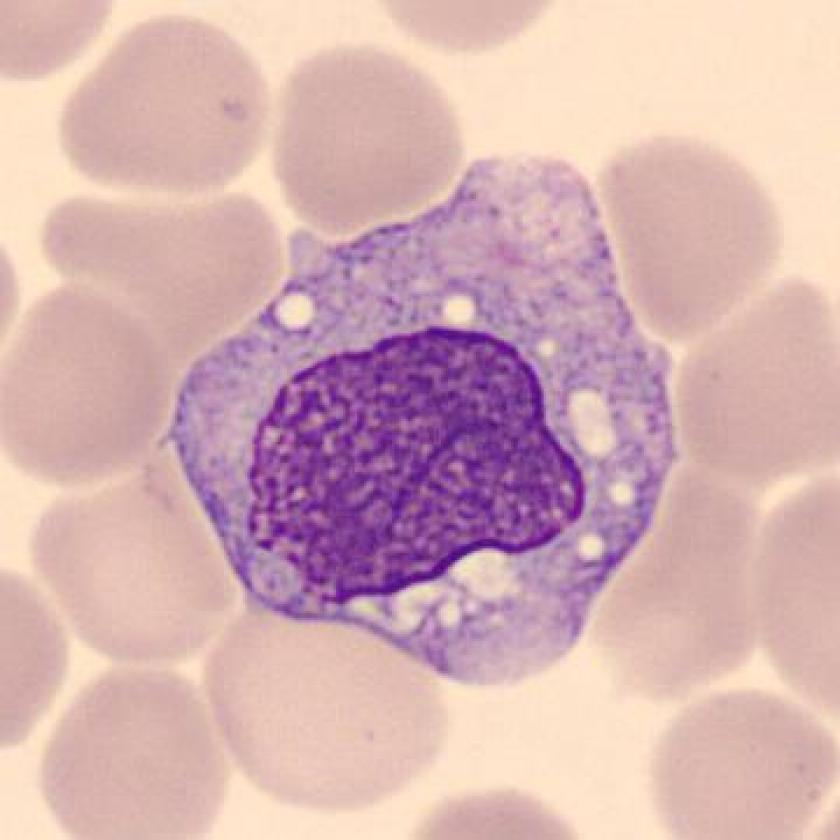monocyte: (153, 135, 701, 709)
